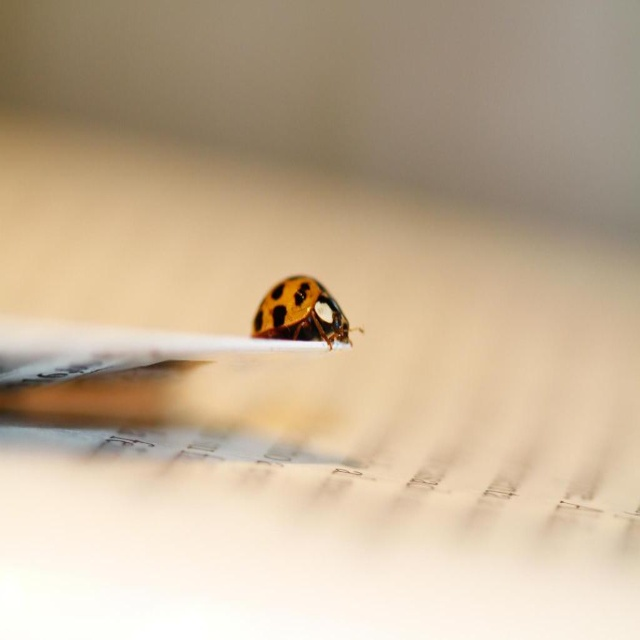Ladybug: (252, 271, 357, 353)
